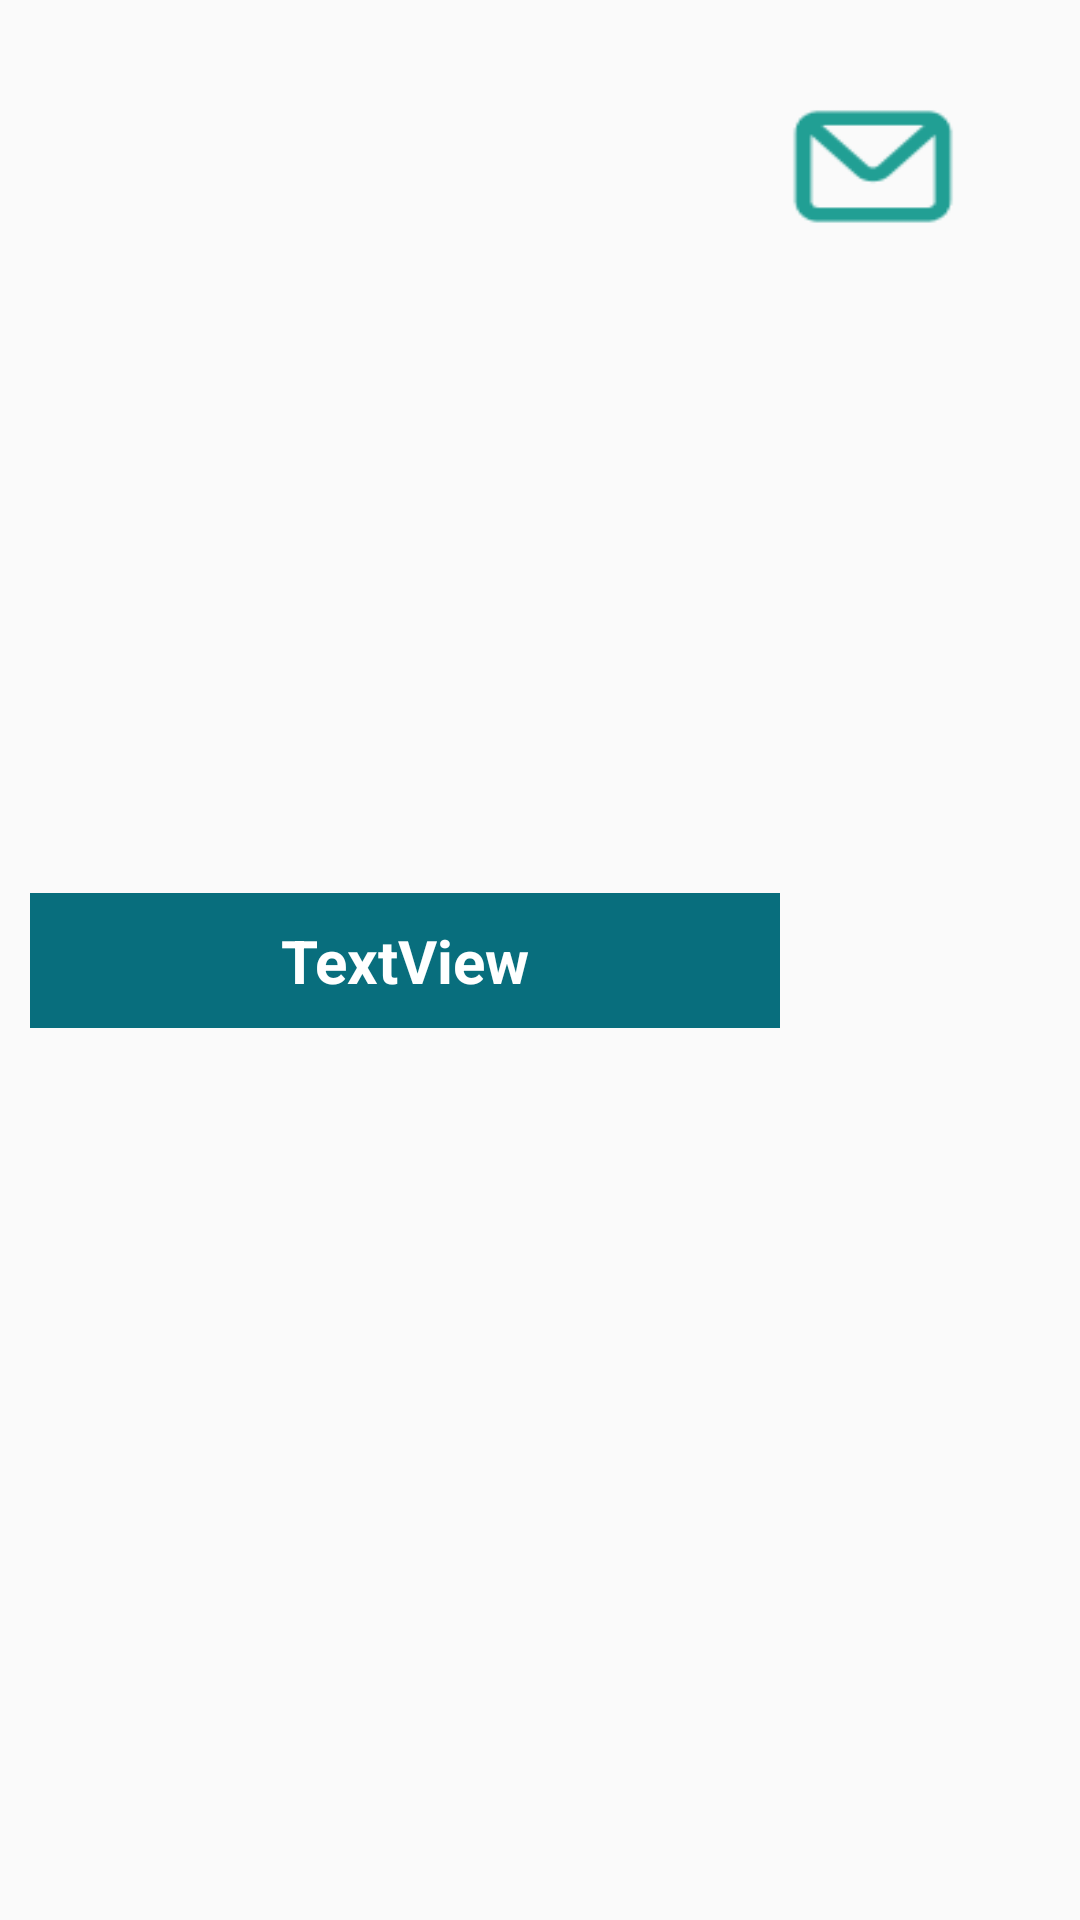

Icon bounding boxes for this 1080 x 1920 phone screenshot, format (x1, y1, x2, y2):
message: (793, 110, 953, 223)
